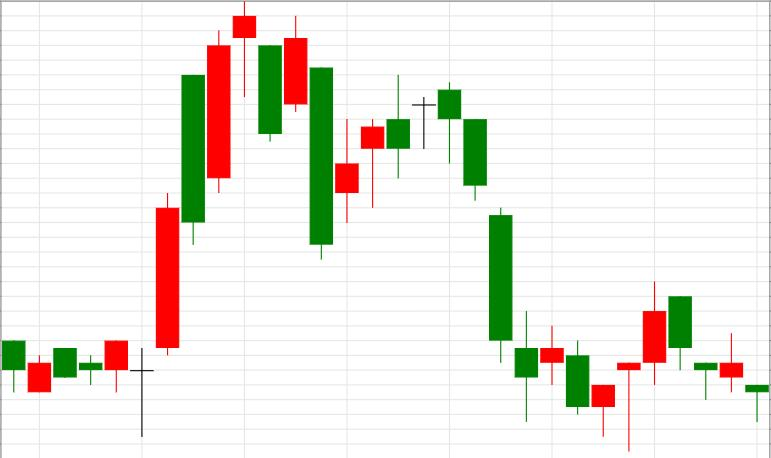evening_star_fall: (105, 2, 281, 436)
